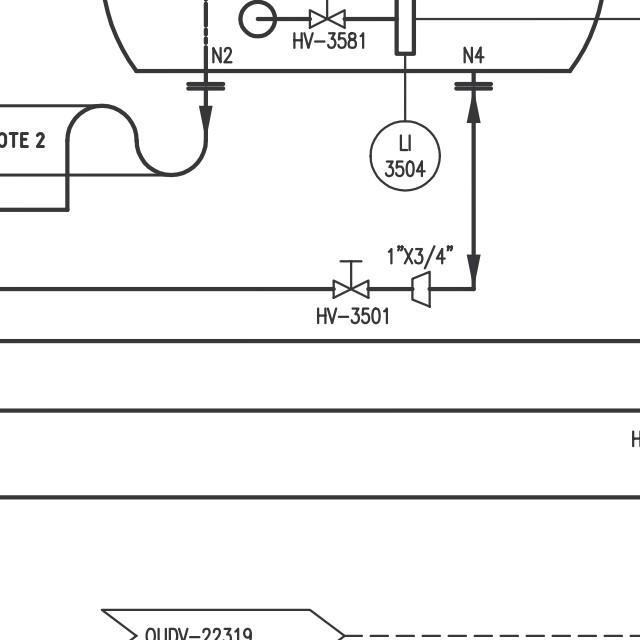HV: (326, 255, 373, 303)
SP: (407, 266, 436, 309)
